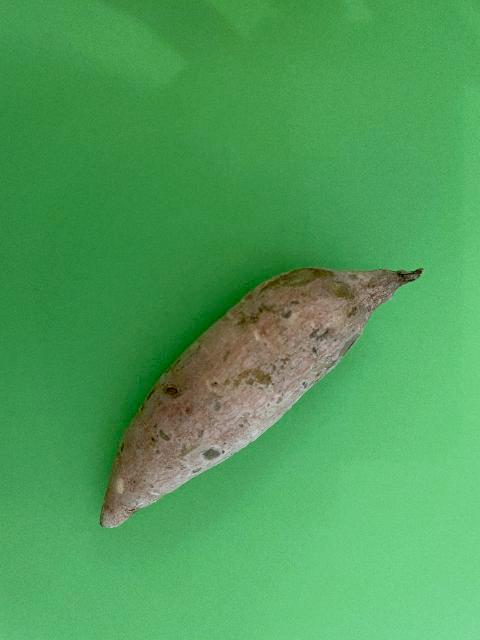sweetpotato: (98, 266, 424, 530)
